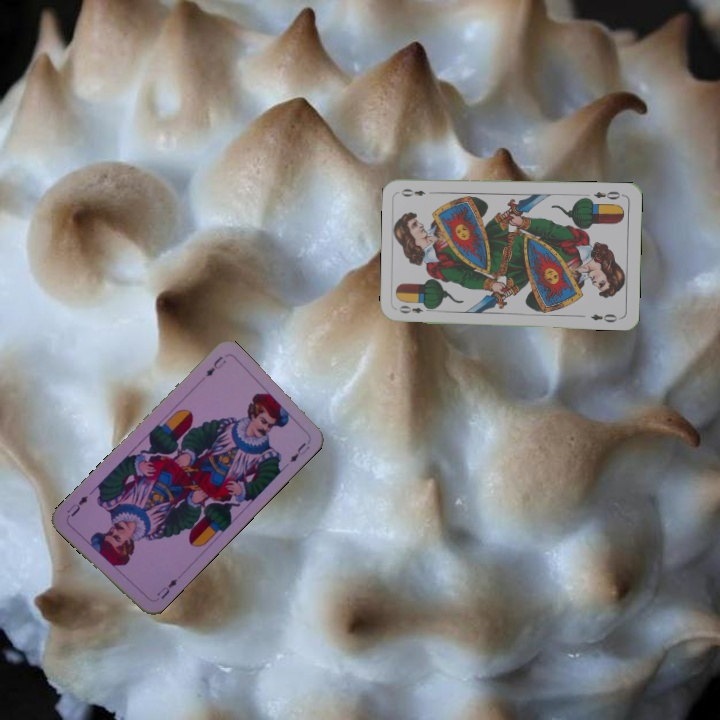EO: (395, 302, 435, 316), (590, 187, 626, 202)
EU: (201, 352, 229, 380), (153, 574, 180, 602)
